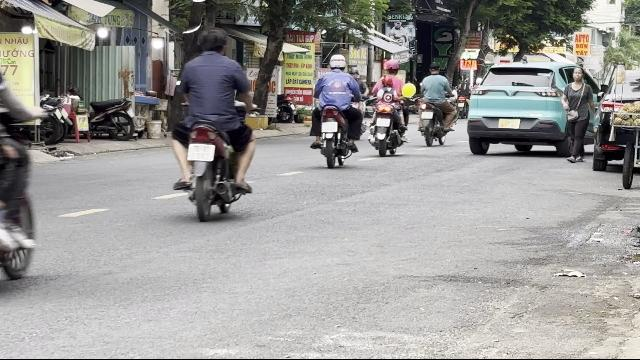helmet: (328, 53, 346, 69)
licenseplate: (188, 144, 215, 160), (322, 122, 338, 132)
motorcyclist: (166, 28, 258, 220), (306, 53, 362, 168)
nohelmet: (199, 28, 227, 56)
